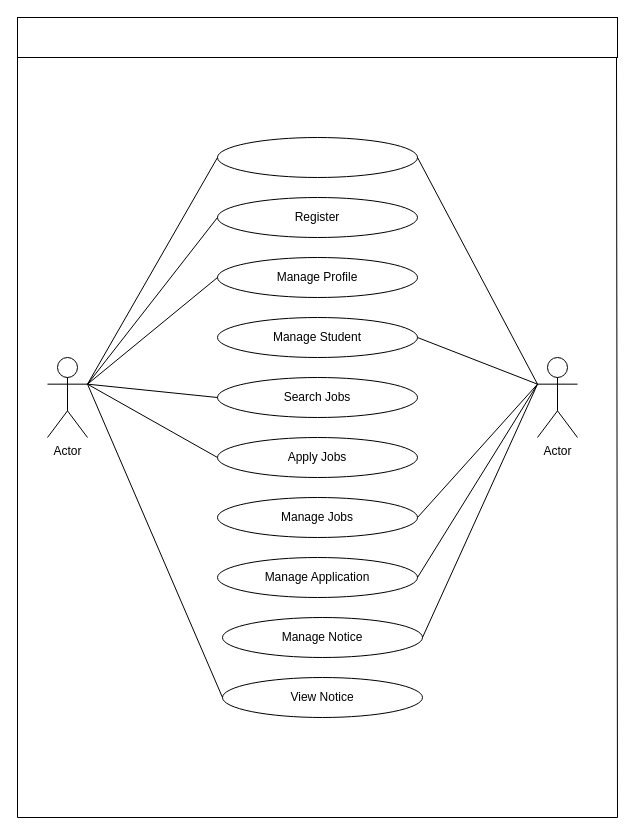
Some shapes in this 636 by 836 pixel diagram are drawn without their labels. Here are the shapes that lost their labels. From the top down, the box of each, then its label:
(16, 16, 618, 58): PlacementCell
(216, 136, 418, 178): Login/Logout
